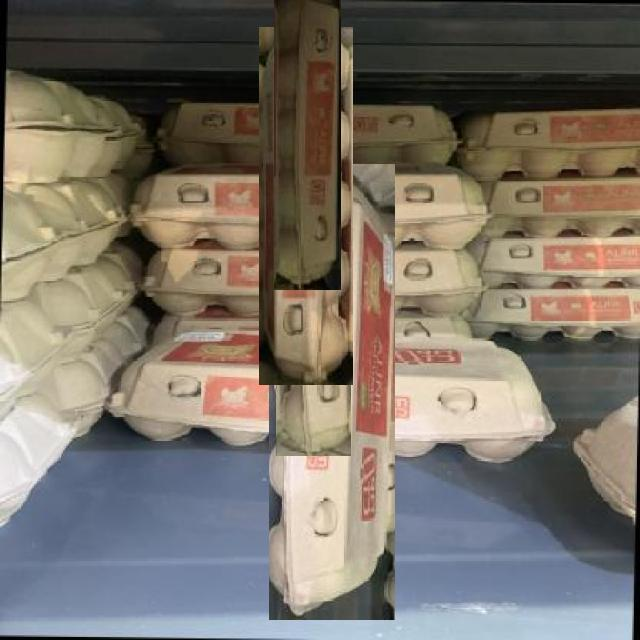Egg: (268, 165, 395, 620), (260, 26, 353, 385), (276, 111, 351, 456), (274, 0, 341, 290)
